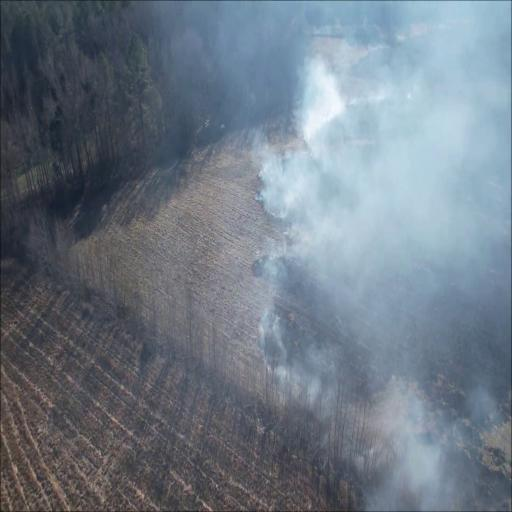smoke: (253, 50, 512, 270), (386, 372, 454, 512)
